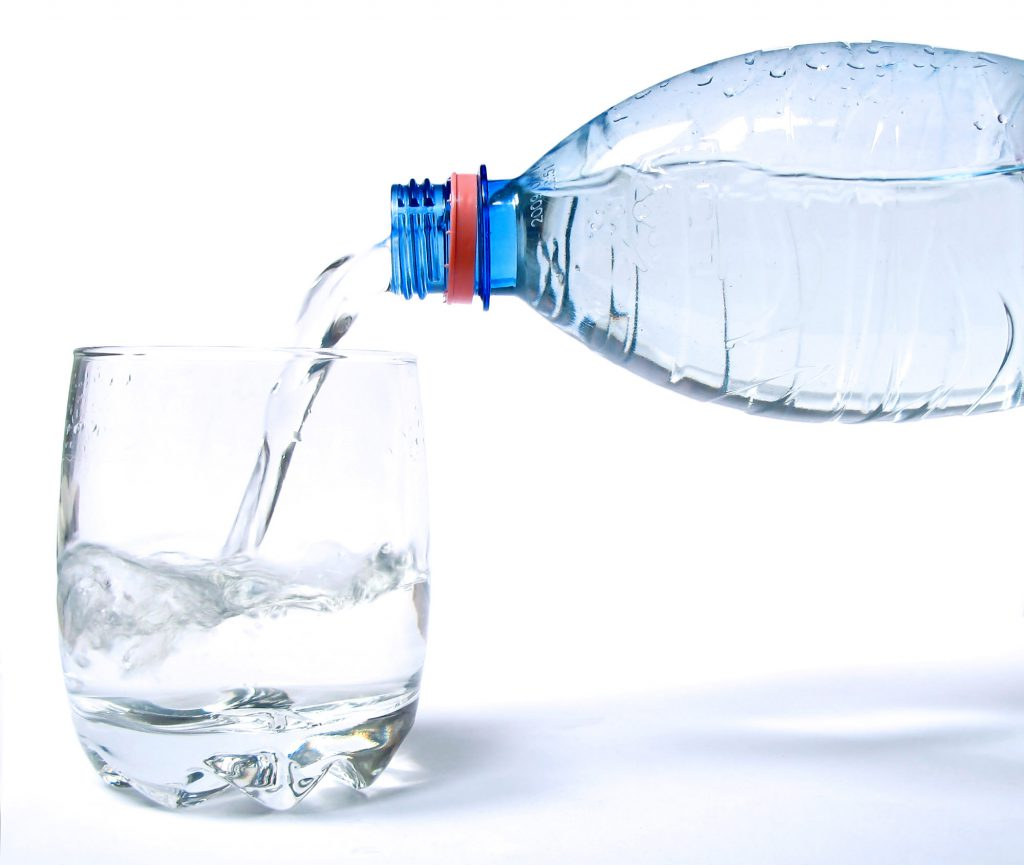glass of water: (62, 346, 429, 799)
